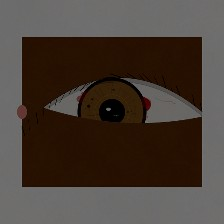hemorrhage_spot: (68, 67, 164, 143)
